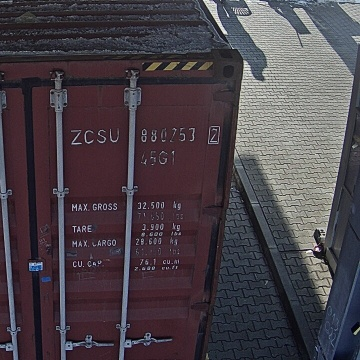serial_id: (71, 127, 217, 145)
